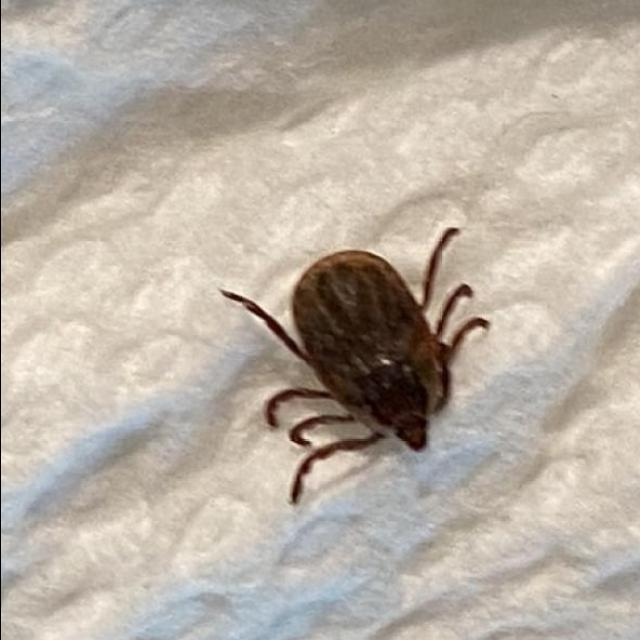Rhipicephalus Sanguineus-F-Fed: (219, 227, 490, 505)
